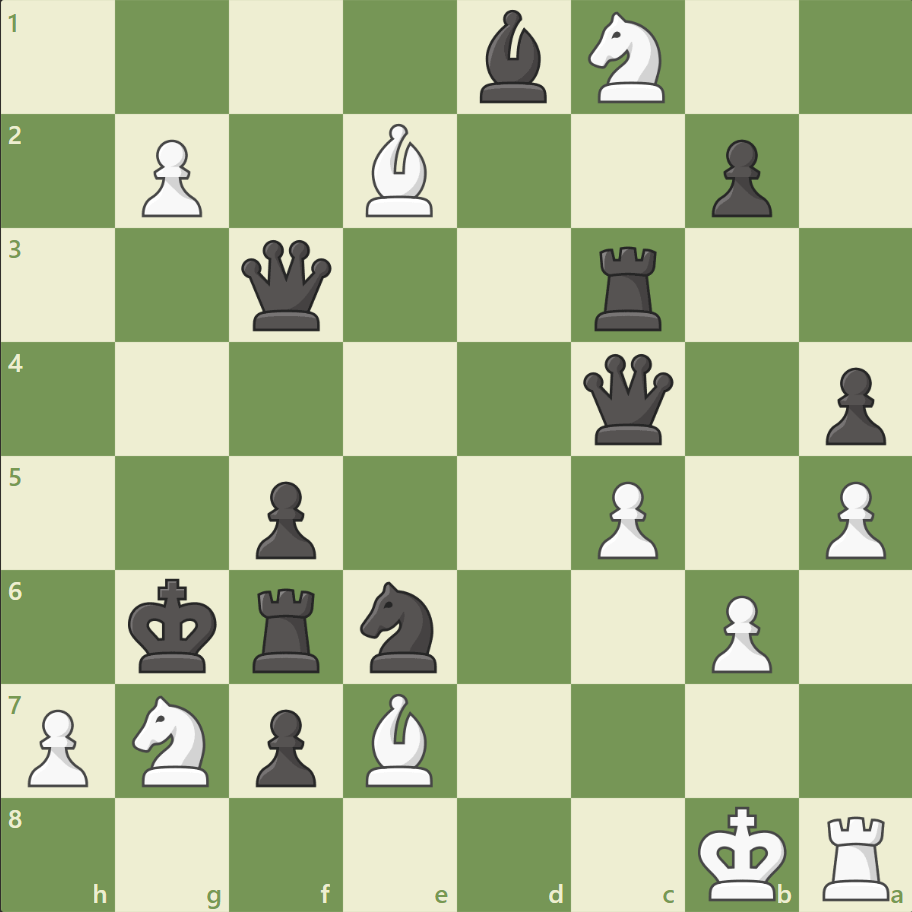B: (358, 687, 442, 790), (358, 120, 442, 222)
K: (692, 798, 792, 906)
N: (124, 688, 222, 791), (579, 7, 676, 110)
P: (20, 700, 95, 791), (701, 586, 776, 677), (133, 132, 208, 223), (815, 473, 889, 564), (588, 473, 662, 564)
R: (814, 806, 897, 904)
b: (471, 6, 555, 109)
k: (124, 571, 224, 679)
n: (351, 575, 449, 677)
p: (247, 700, 322, 791), (247, 473, 322, 564), (701, 132, 776, 223), (815, 359, 889, 450)
q: (578, 349, 677, 449), (237, 236, 336, 335)
r: (246, 579, 329, 676), (587, 239, 670, 336)
